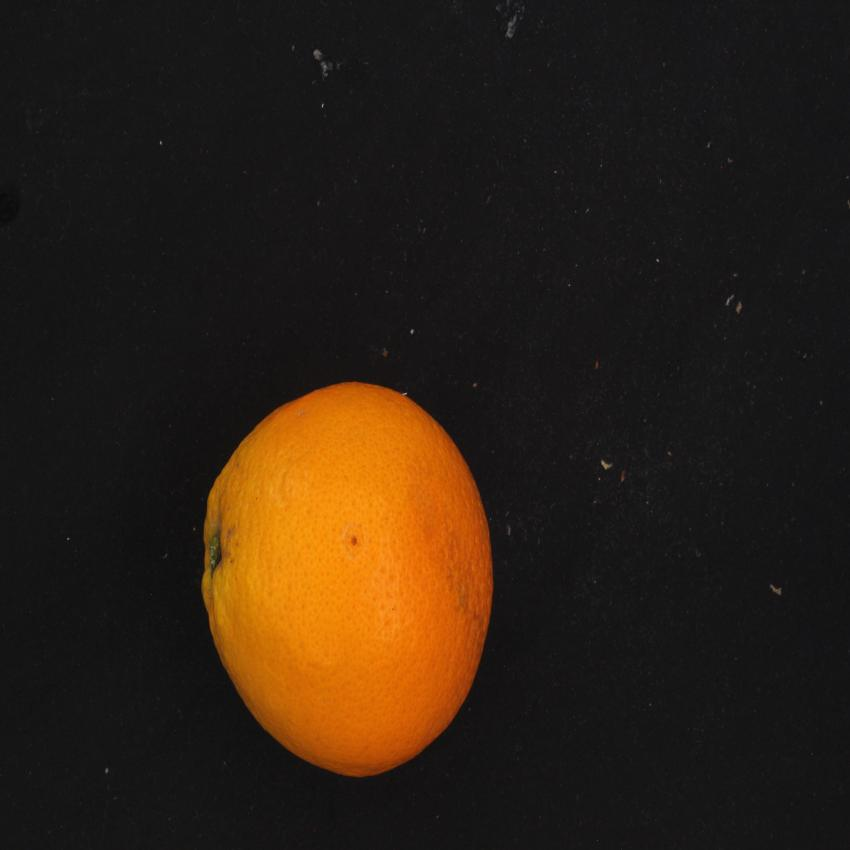Buen estado: (191, 368, 525, 793)
